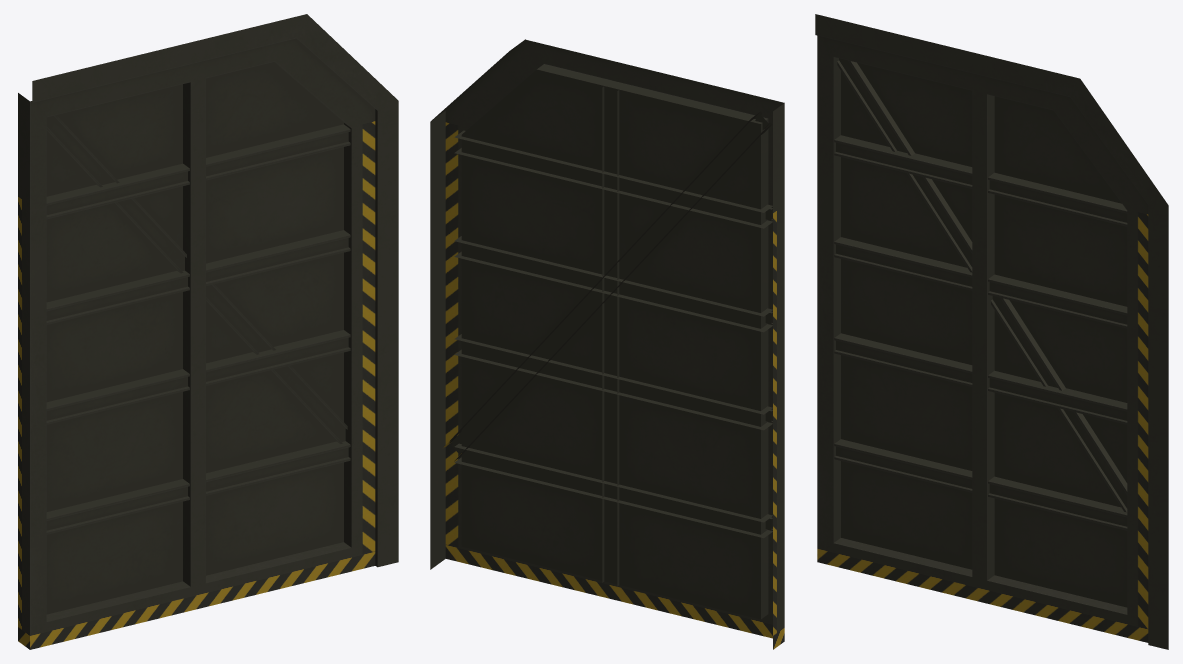
Rendered from SM_MilitaryDoor.fbx.
The picture shows the model from 3 angles, left to right: view 1: azimuth 30°, elevation 25°; view 2: azimuth 150°, elevation 25°; view 3: azimuth 330°, elevation 25°; orthographic projection. The views are drawn at different scales.
Parts seen in each view (by area): view 1: SM_MilitaryDoor; view 2: SM_MilitaryDoor; view 3: SM_MilitaryDoor.
Part boxes in pixels (x1=…): SM_MilitaryDoor: x1=18, y1=14, x2=398, y2=649; SM_MilitaryDoor: x1=430, y1=39, x2=784, y2=649; SM_MilitaryDoor: x1=815, y1=14, x2=1168, y2=649.
Size of the model in its own units: 5.35 by 7.95 by 0.4538.
